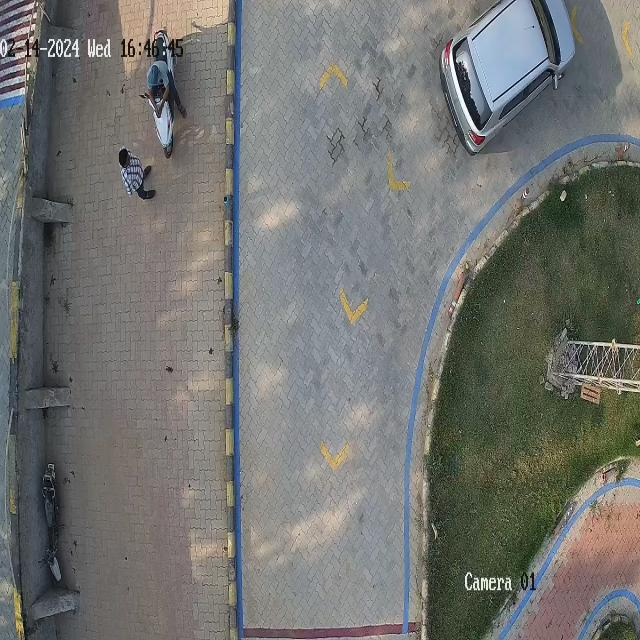car: (438, 0, 576, 157)
